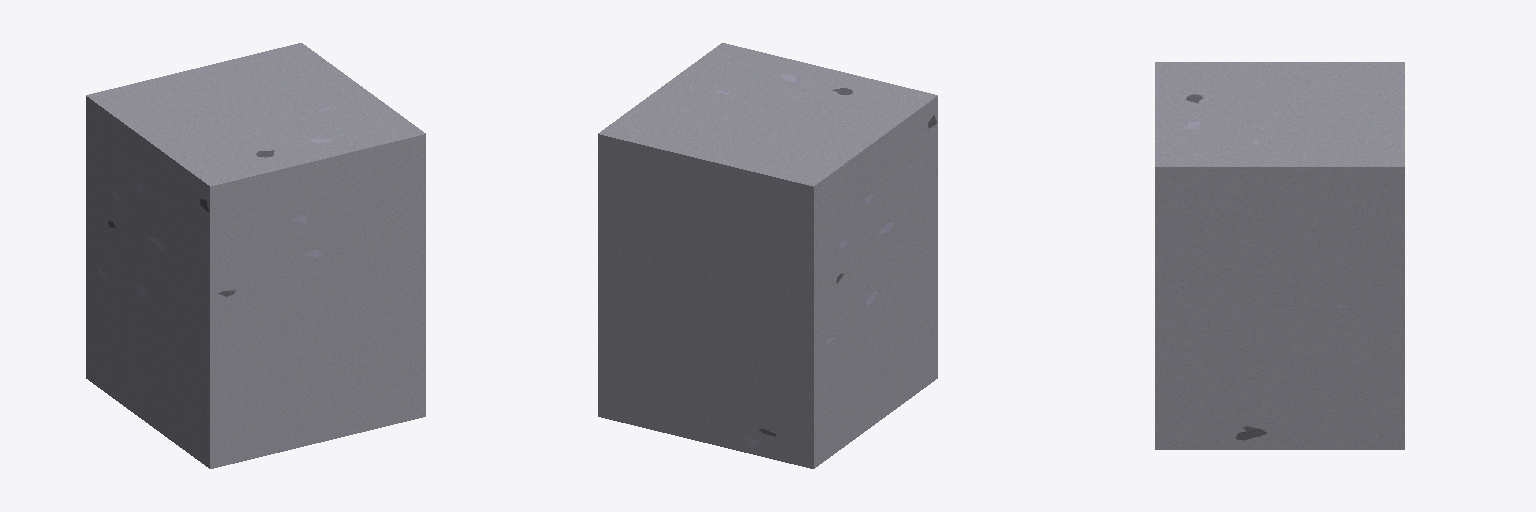
The picture shows the model from 3 angles: view 1: azimuth 30°, elevation 25°; view 2: azimuth 150°, elevation 25°; view 3: azimuth 270°, elevation 25°; orthographic projection.
Parts seen in each view (by area): view 1: pCube1; view 2: pCube1; view 3: pCube1.
Part boxes in pixels (bbox=[...]): pCube1: bbox=[86, 43, 425, 468]; pCube1: bbox=[598, 43, 937, 468]; pCube1: bbox=[1155, 62, 1404, 449].
Size of the model in its own units: 4 by 5 by 4.
Materials: 1 (1 with a texture image).